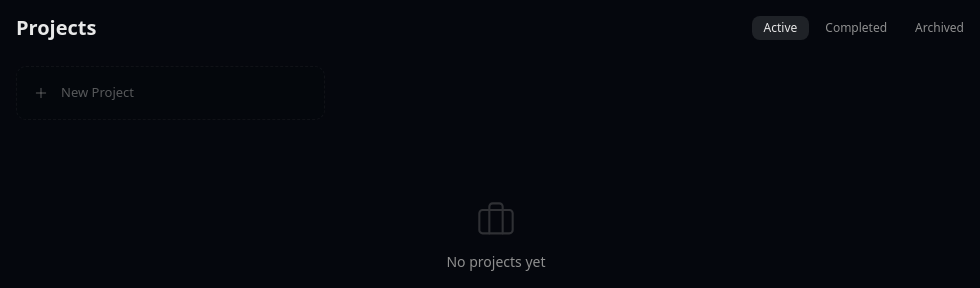
Test case: ProjectsOverviewView › tab navigation › switches to completed view when Completed tab is clicked
Click the button with test id "projects-tab-completed".
click(856, 28)  # box left=813, top=16, right=899, bottom=40
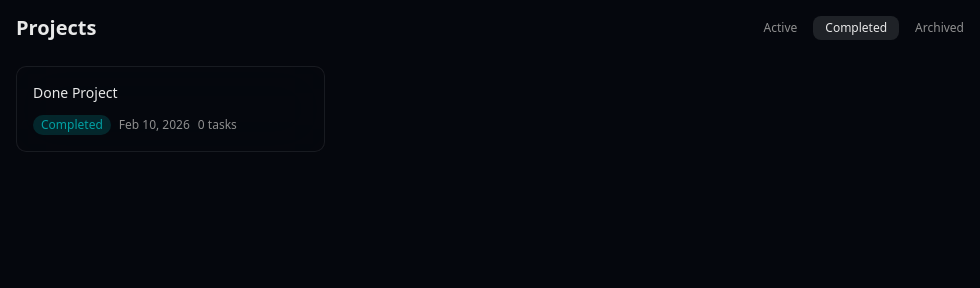
Expected: the heading "Done Project" is shown, left=33, top=83, right=118, bottom=103
